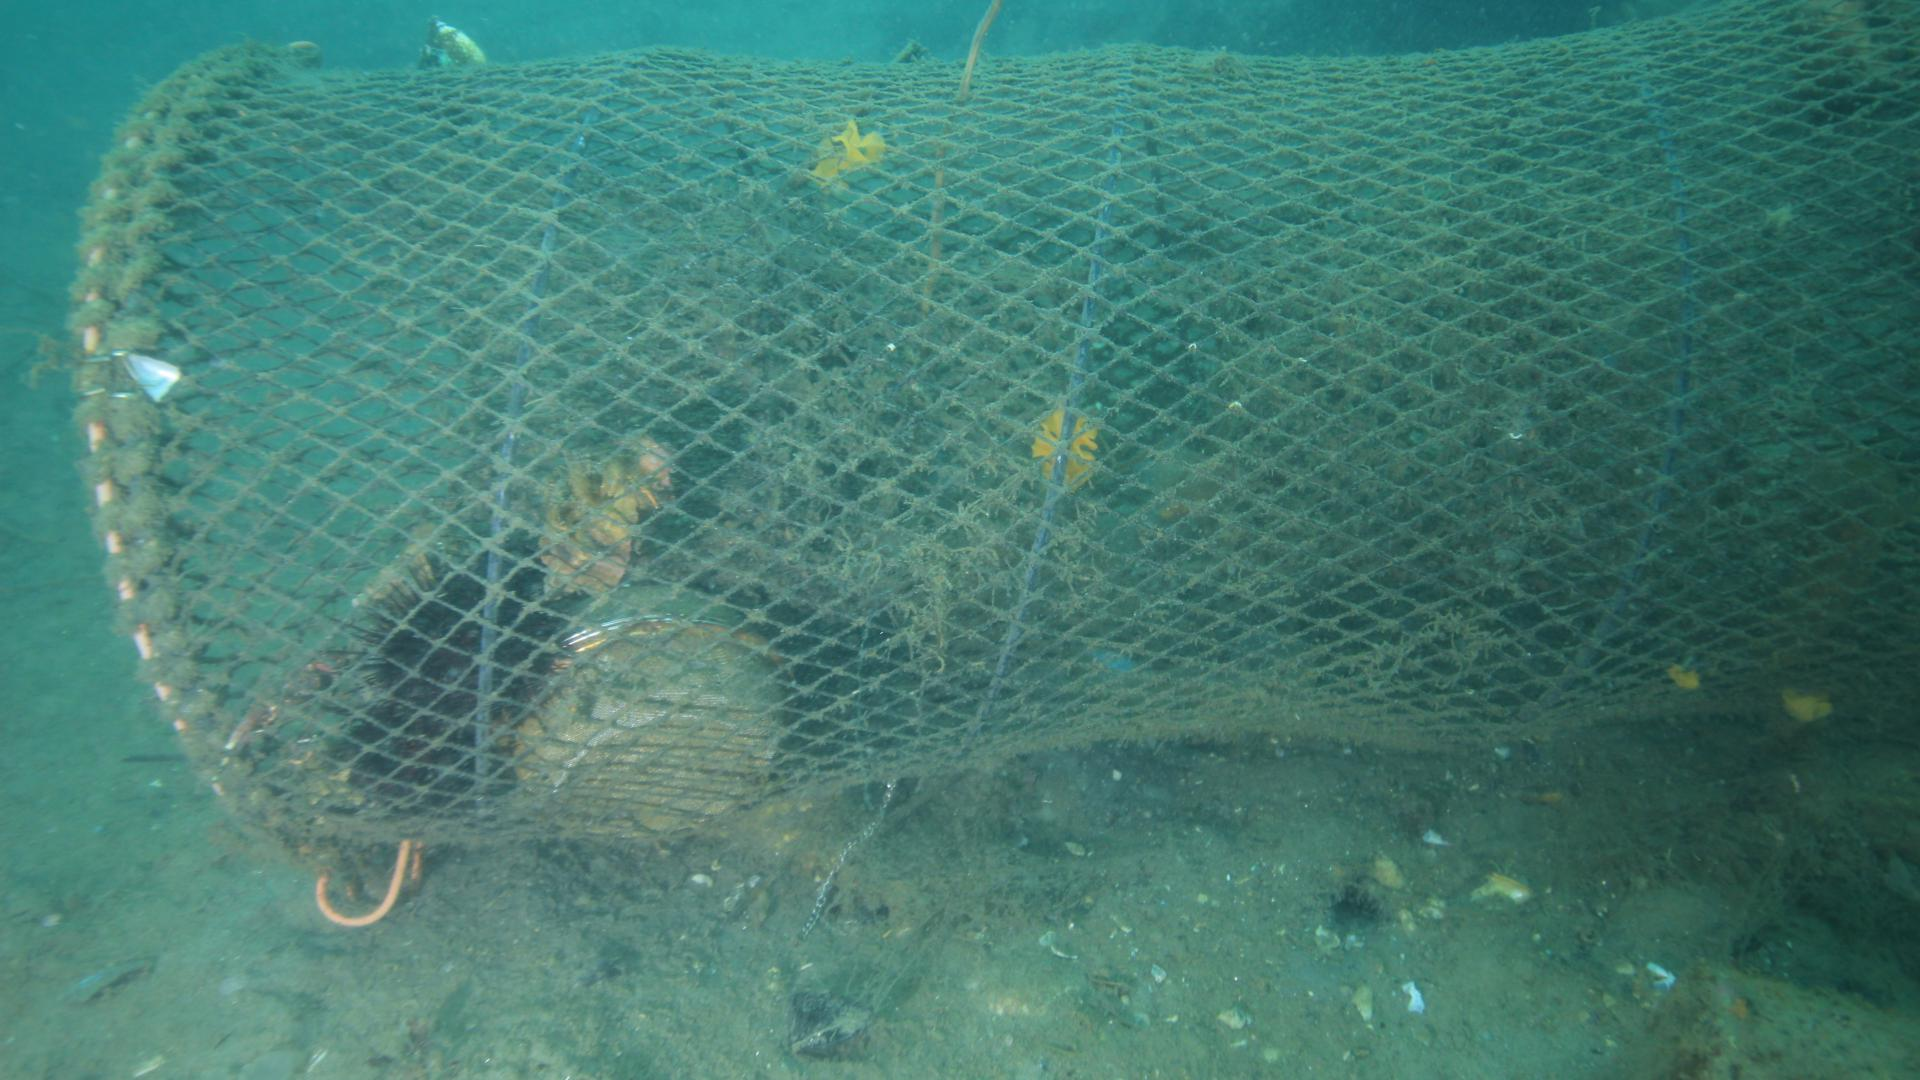spring fish trap: (76, 0, 1920, 868)
